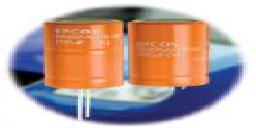Electrolytic-Capacitor: (40, 15, 126, 122), (128, 15, 215, 95)
